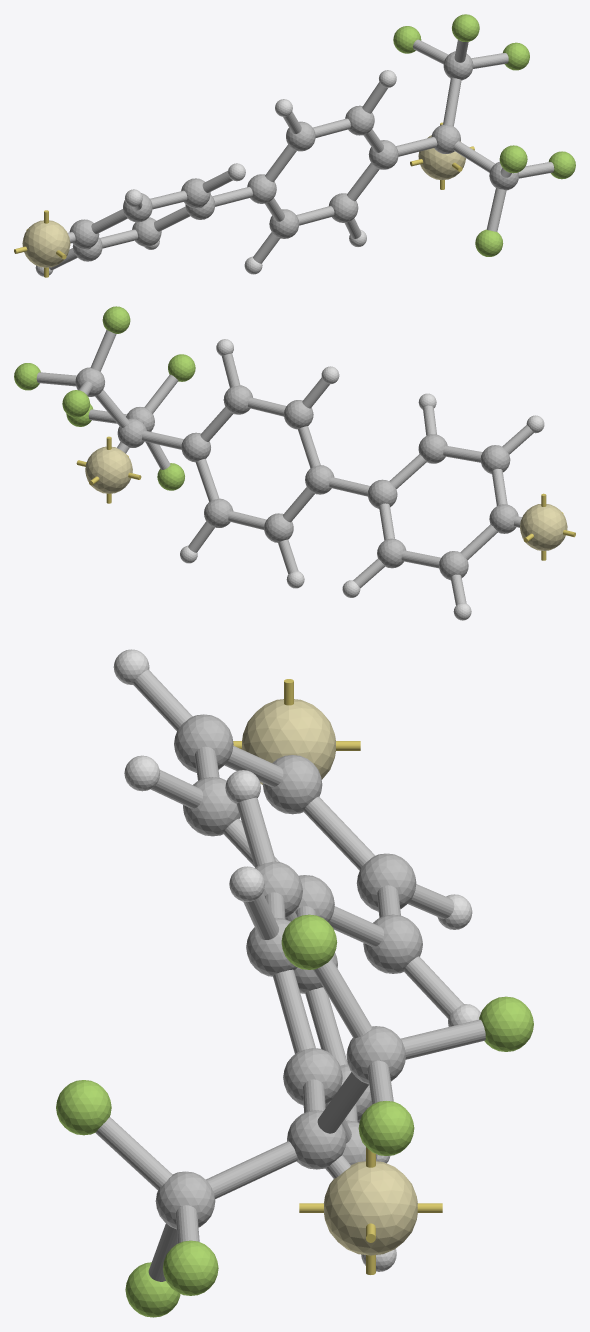
Rendered from organic_first_hit.glb.
The picture shows the model from 3 angles, top to bottom: view 1: azimuth 30°, elevation 25°; view 2: azimuth 150°, elevation 25°; view 3: azimuth 270°, elevation 25°; orthographic projection. The views are drawn at different scales.
Visible parts, largest first — view 1: world, dummy_0_1, dummy_10_1, atom_5, atom_7, atom_19, atom_9, atom_12, atom_17, atom_6, atom_1, atom_20 (+12 smaller); view 2: world, dummy_10_1, dummy_0_1, atom_6, atom_5, atom_7, atom_20, atom_3, atom_8, atom_19, atom_1, atom_2 (+10 smaller); view 3: world, dummy_10_1, dummy_0_1, atom_13, atom_18, atom_17, atom_12, atom_1, atom_21, atom_16, atom_9, atom_11 (+13 smaller).
Part boxes in pixels (left/top/right/bottom): world: left=49, top=39, right=554, bottom=269; dummy_0_1: left=22, top=220, right=70, bottom=267; dummy_10_1: left=418, top=135, right=465, bottom=179; atom_5: left=247, top=174, right=276, bottom=203; atom_7: left=329, top=193, right=358, bottom=222; atom_19: left=345, top=105, right=374, bottom=135; atom_9: left=431, top=124, right=460, bottom=153; atom_12: left=499, top=145, right=527, bottom=173; atom_17: left=452, top=14, right=479, bottom=41; atom_6: left=269, top=209, right=299, bottom=238; atom_1: left=69, top=219, right=99, bottom=249; atom_20: left=286, top=121, right=315, bottom=151; world: left=36, top=330, right=533, bottom=605; dummy_10_1: left=85, top=446, right=132, bottom=493; dummy_0_1: left=520, top=504, right=567, bottom=550; atom_6: left=264, top=513, right=293, bottom=542; atom_5: left=305, top=465, right=334, bottom=494; atom_7: left=204, top=498, right=233, bottom=527; atom_20: left=283, top=400, right=313, bottom=429; atom_3: left=418, top=434, right=447, bottom=463; atom_8: left=181, top=432, right=210, bottom=462; atom_19: left=223, top=385, right=252, bottom=414; atom_1: left=489, top=504, right=518, bottom=533; atom_2: left=480, top=445, right=510, bottom=474; world: left=95, top=669, right=485, bottom=1281; dummy_10_1: left=323, top=1161, right=417, bottom=1255; dummy_0_1: left=242, top=699, right=335, bottom=784; atom_13: left=163, top=1240, right=218, bottom=1295; atom_18: left=358, top=1101, right=414, bottom=1155; atom_17: left=281, top=914, right=337, bottom=969; atom_12: left=56, top=1080, right=111, bottom=1135; atom_1: left=262, top=755, right=322, bottom=814; atom_21: left=363, top=914, right=422, bottom=973; atom_16: left=479, top=996, right=533, bottom=1051; atom_9: left=287, top=1110, right=346, bottom=1169; atom_11: left=155, top=1171, right=215, bottom=1229.
Size of the model in its own units: 12.41 by 4.9 by 4.8.
